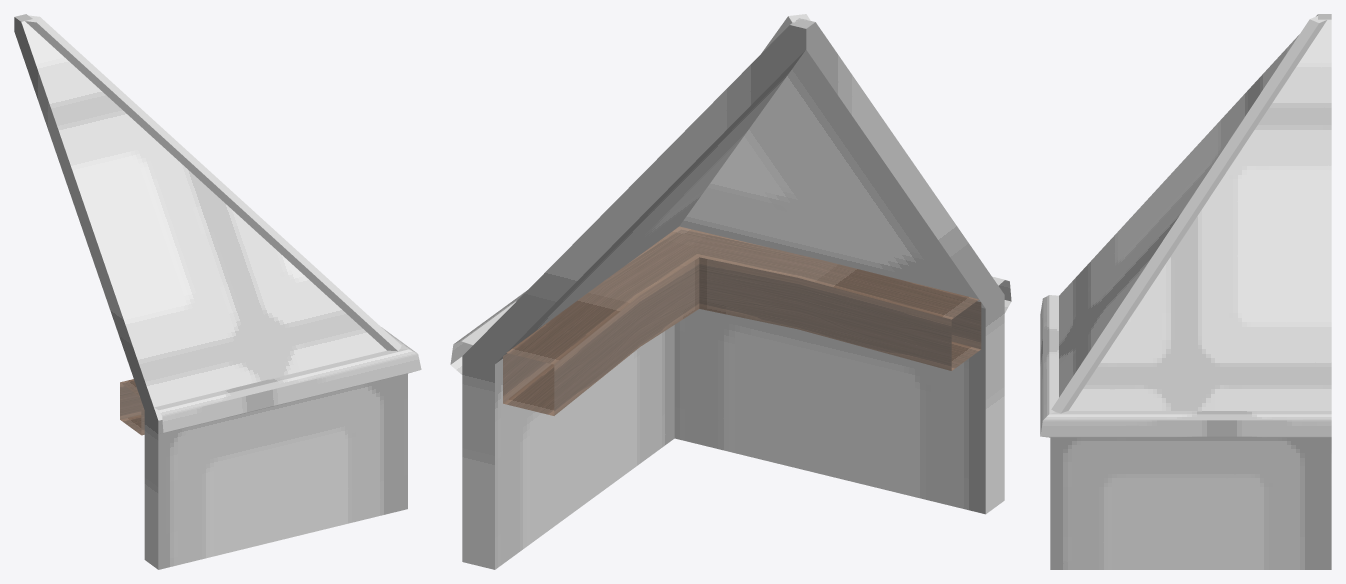
File: SM_Roof_Corner_04.fbx
3 views of the same model, side by side, from view 1: azimuth 30°, elevation 25°; view 2: azimuth 150°, elevation 25°; view 3: azimuth 270°, elevation 25° (orthographic). The views are drawn at different scales.
Parts seen in each view (by area): view 1: SM_Roof_Corner_04_LOD0; view 2: SM_Roof_Corner_04_LOD0; view 3: SM_Roof_Corner_04_LOD0.
Boxes of the visible parts, <box> form: SM_Roof_Corner_04_LOD0: <box>14,14,421,569</box>; SM_Roof_Corner_04_LOD0: <box>450,14,1011,569</box>; SM_Roof_Corner_04_LOD0: <box>1040,14,1331,569</box>.
Bounding box in the file's own units: 543 × 543 × 900.
